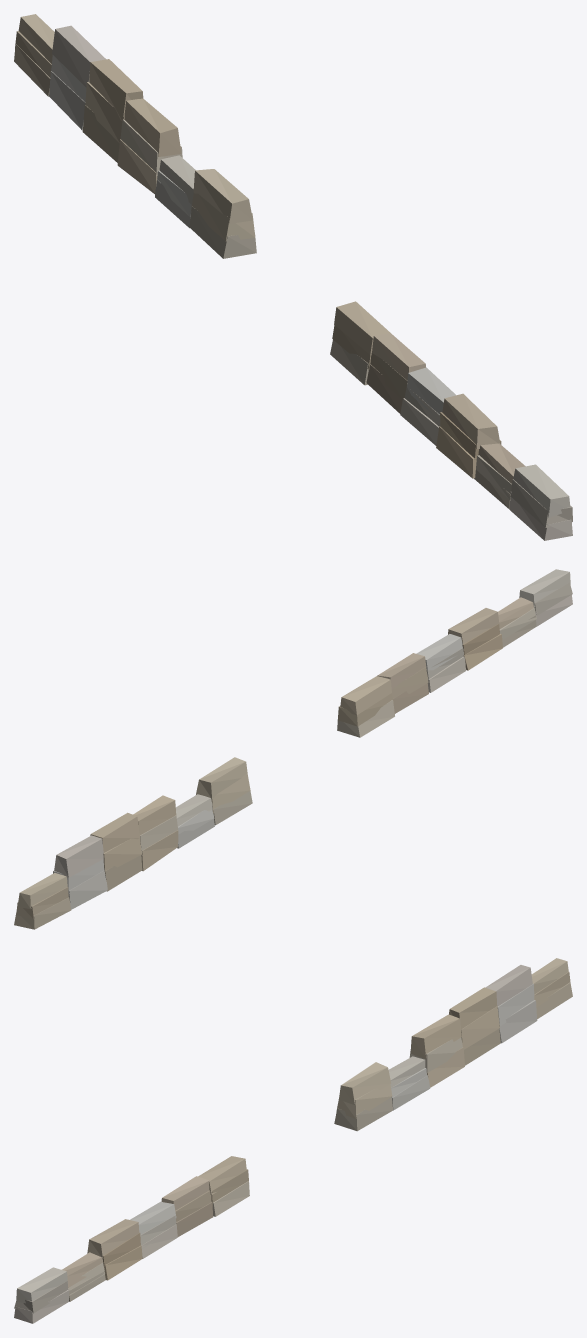
The model's file is farm_-31_-31_mid.glb.
3 views of the same model, one above another, from view 1: azimuth 30°, elevation 25°; view 2: azimuth 150°, elevation 25°; view 3: azimuth 330°, elevation 25° (orthographic). The views are drawn at different scales.
Visible parts, largest first — view 1: geometry_0; view 2: geometry_0; view 3: geometry_0.
Boxes of the visible parts, x1,y1,x2,y2 form: geometry_0: (14, 14, 572, 540); geometry_0: (14, 569, 572, 929); geometry_0: (14, 958, 572, 1323).
Bounding box in the file's own units: 2.51 × 1.46 × 22.73.
